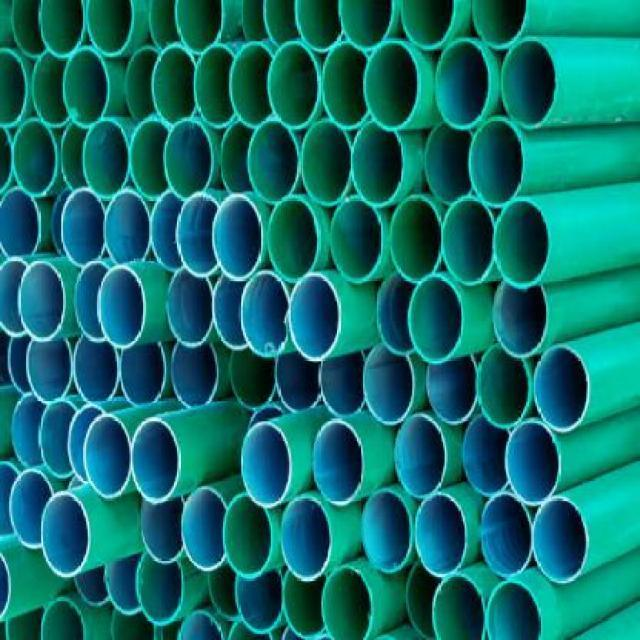pipe: (493, 197, 550, 290), (499, 39, 556, 132), (468, 117, 526, 208), (436, 38, 491, 131), (407, 275, 464, 364), (363, 40, 420, 129), (534, 345, 590, 433), (329, 196, 383, 287), (267, 39, 321, 130), (390, 194, 445, 283), (442, 196, 495, 287), (505, 420, 561, 506), (532, 499, 588, 584), (414, 492, 468, 580), (351, 121, 405, 207), (394, 413, 448, 499), (476, 345, 530, 430), (247, 119, 300, 205), (268, 195, 321, 281), (221, 493, 274, 579), (240, 422, 293, 507), (361, 490, 414, 575), (492, 282, 549, 361), (239, 271, 290, 359), (362, 343, 416, 426), (479, 495, 533, 577), (324, 40, 372, 131), (302, 118, 351, 207), (289, 275, 340, 360), (312, 421, 363, 506), (40, 491, 89, 579), (163, 117, 214, 200), (213, 195, 262, 281), (131, 417, 180, 503), (282, 496, 331, 582), (83, 415, 131, 500), (97, 266, 146, 349), (81, 118, 130, 200), (62, 46, 111, 128), (229, 41, 274, 129), (19, 262, 67, 344), (462, 415, 510, 497), (321, 565, 374, 639), (181, 487, 227, 572), (425, 123, 473, 204), (426, 354, 480, 425), (176, 192, 219, 278), (9, 469, 54, 551), (152, 44, 197, 126), (13, 117, 59, 197), (166, 269, 212, 349), (193, 44, 236, 129), (431, 574, 487, 639), (60, 188, 106, 267), (136, 553, 184, 626), (485, 580, 544, 639), (104, 189, 150, 263), (130, 116, 170, 201), (139, 496, 187, 564), (377, 271, 415, 356), (38, 399, 78, 479), (283, 569, 329, 638), (120, 342, 168, 408), (319, 352, 367, 417), (236, 570, 285, 633), (32, 52, 71, 131), (74, 335, 119, 403), (68, 405, 107, 483), (26, 338, 72, 403), (172, 343, 218, 408), (0, 188, 42, 259), (229, 348, 277, 410), (219, 120, 258, 196), (339, 0, 396, 51), (75, 259, 109, 344), (275, 353, 323, 413), (85, 0, 134, 58), (471, 0, 528, 49), (400, 0, 456, 49), (174, 0, 223, 55), (151, 191, 184, 272), (38, 0, 84, 58), (125, 46, 161, 120), (11, 392, 45, 469), (294, 0, 343, 52), (0, 256, 31, 338), (104, 553, 141, 616), (0, 47, 28, 127), (40, 596, 86, 639)
